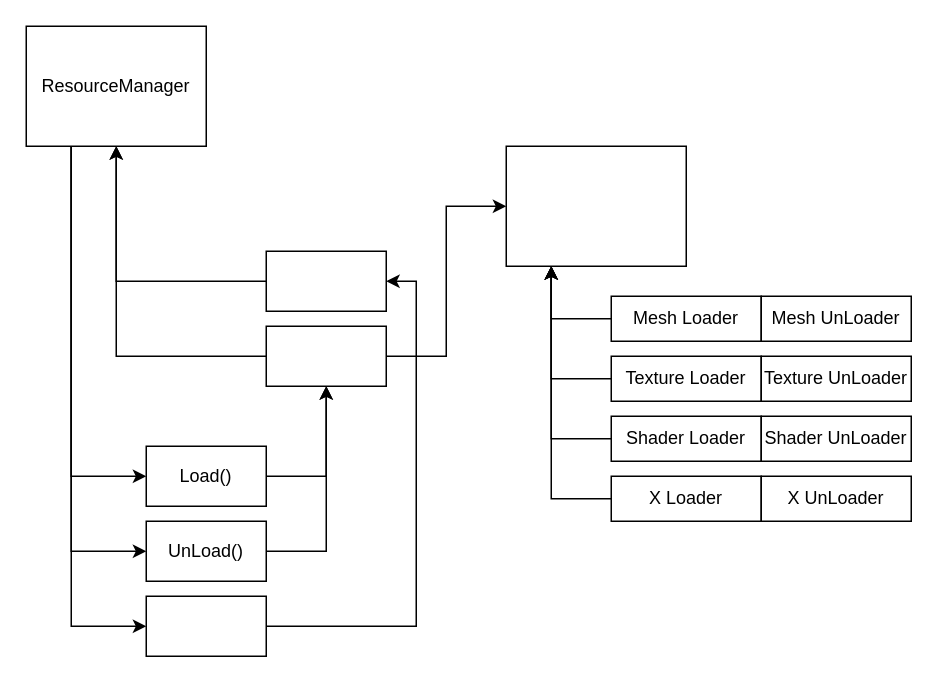
Image size: 938x683. Some labels were removed from this diagram. The shapes that lost their labels are listed below. From the top down, each one's centre as x and y in pixels, then its label:
[595,205]: ResourceLoader
[325,280]: Resources
[325,355]: Loader
[205,625]: Get()
